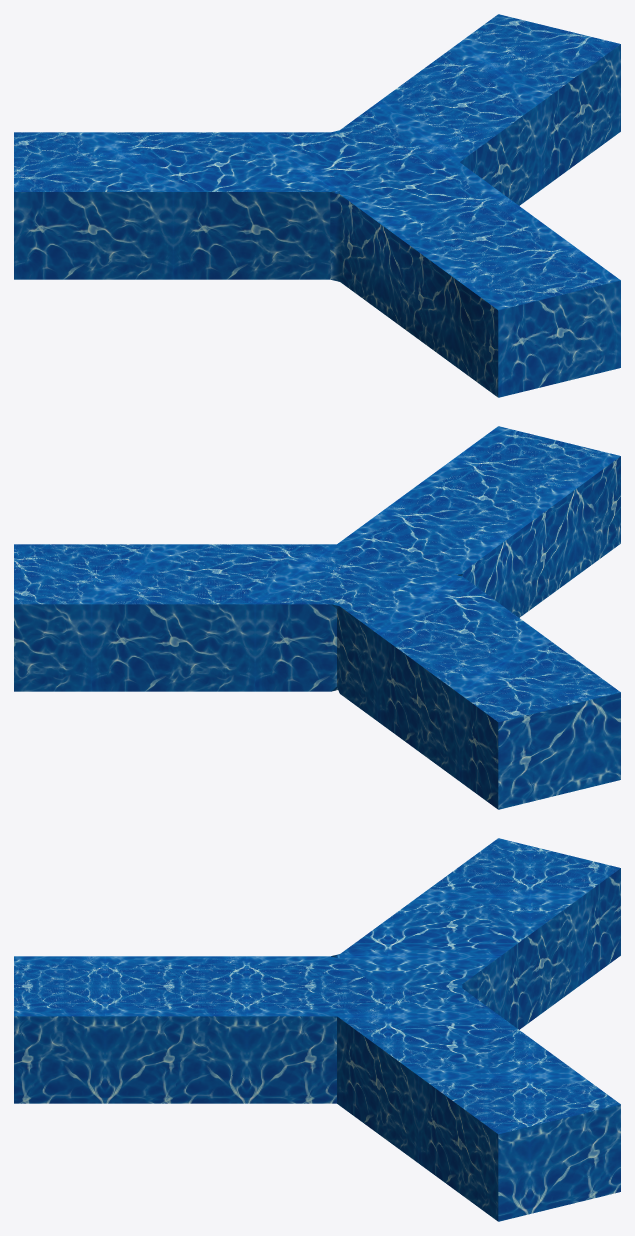
The model's file is shui_zong.obj.
The picture shows the model from 3 angles, top to bottom: view 1: azimuth 30°, elevation 25°; view 2: azimuth 150°, elevation 25°; view 3: azimuth 270°, elevation 25°; orthographic projection.
Visible parts, largest first — view 1: Arc027; view 2: Arc027; view 3: Arc027.
Part boxes in pixels (bbox=[...]): Arc027: bbox=[14, 14, 620, 397]; Arc027: bbox=[14, 426, 620, 809]; Arc027: bbox=[14, 838, 620, 1221].
Bounding box in the file's own units: 21.66 × 2.98 × 18.76.
1 material, 1 textured.
